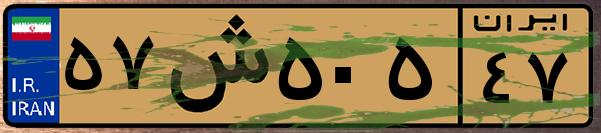0: (330, 28, 385, 110)
4: (475, 38, 525, 113)
5: (270, 28, 330, 110), (385, 28, 445, 110), (57, 26, 110, 100)
7: (525, 38, 570, 115), (110, 28, 158, 98)
ش: (158, 12, 270, 120)
